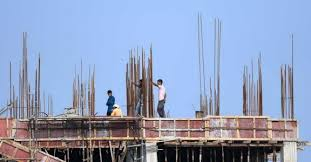human: (152, 75, 170, 117), (102, 86, 119, 115)
leg: (157, 98, 166, 116), (105, 104, 113, 115)
nohelmet: (104, 87, 113, 94)
novest: (155, 84, 167, 100), (105, 94, 115, 106)
